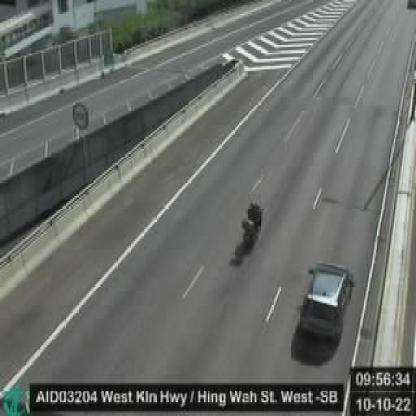Car: (297, 262, 353, 344)
